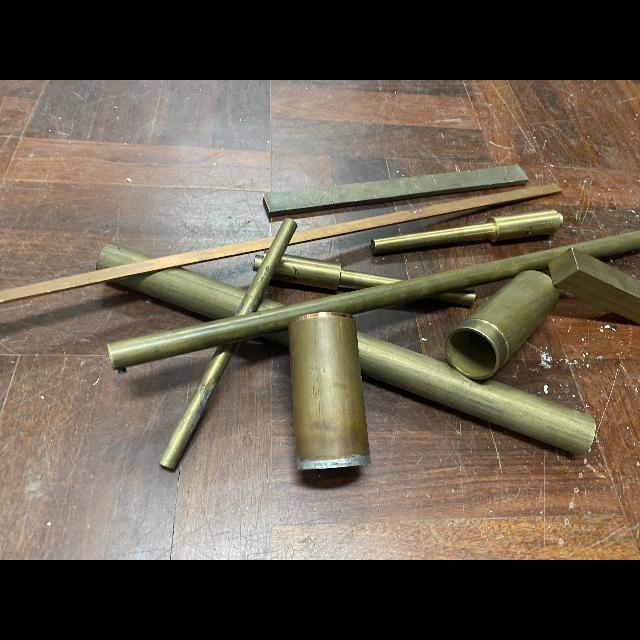Brass: (108, 231, 640, 370), (358, 332, 595, 454), (263, 165, 528, 217), (445, 270, 559, 380), (160, 343, 238, 469), (371, 210, 563, 254), (549, 248, 640, 323), (115, 268, 246, 319), (235, 218, 297, 316), (271, 255, 406, 290), (96, 244, 150, 269), (257, 297, 286, 312), (267, 330, 289, 344), (253, 252, 268, 271)
Copper: (0, 236, 276, 303), (289, 184, 562, 244), (288, 313, 370, 469)
